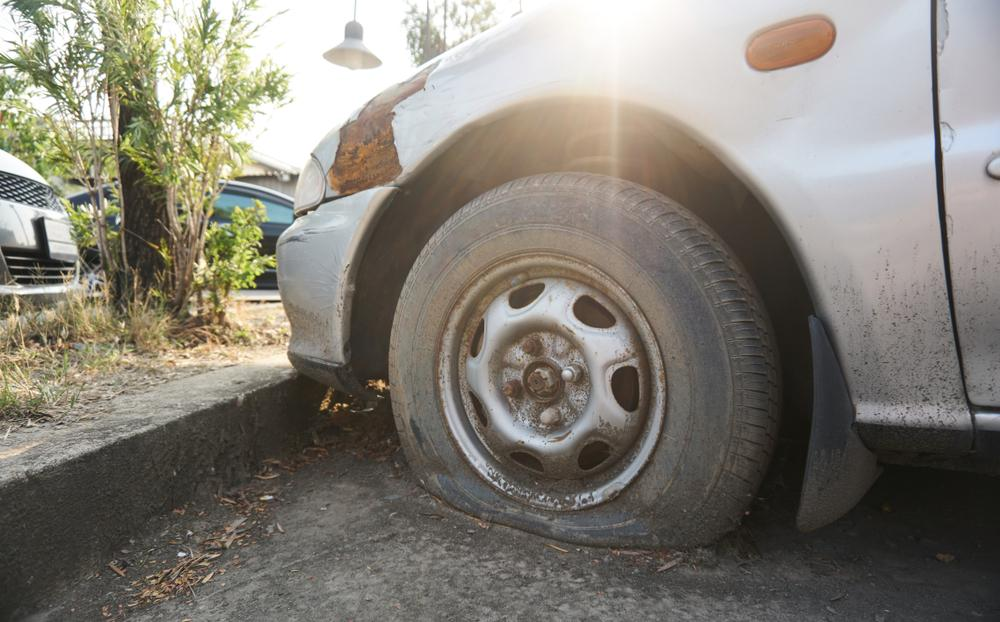tire flat: (390, 168, 783, 548)
